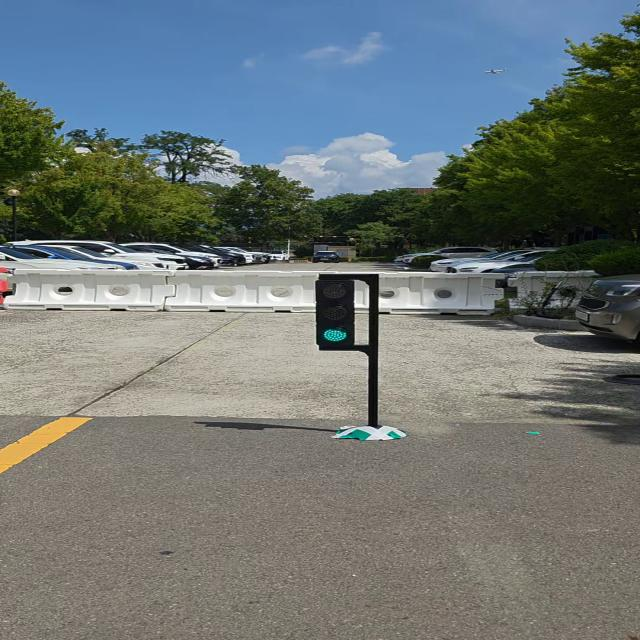green: (319, 275, 357, 352)
